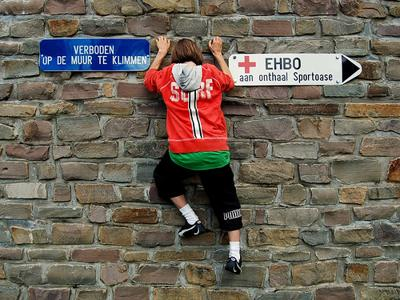person: (145, 36, 244, 276)
